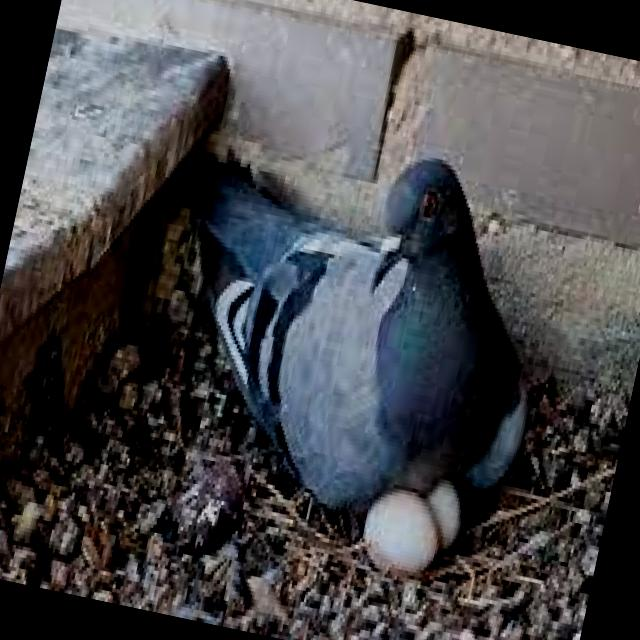bird: (122, 101, 556, 537)
